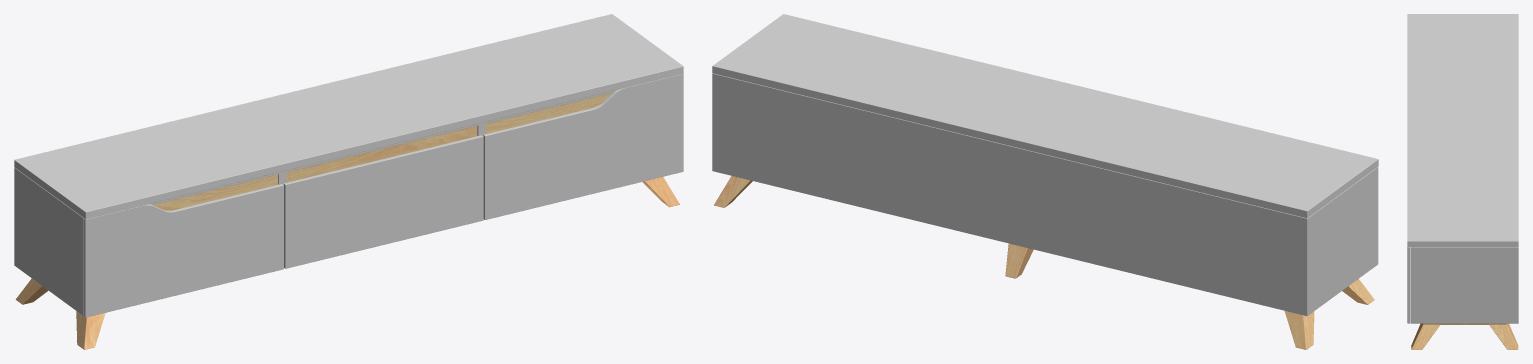
File: kitchenz_simona_tv_cabinet.glb
3 views of the same model, side by side, from view 1: azimuth 30°, elevation 25°; view 2: azimuth 150°, elevation 25°; view 3: azimuth 270°, elevation 25° (orthographic). The views are drawn at different scales.
Visible parts, largest first — view 1: TOP, PANEL3, PANEL1, PANEL2, CABINET, LEGBASE; view 2: CABINET, TOP, LEGBASE; view 3: TOP, CABINET, LEGBASE, PANEL3.
Part boxes in pixels (bbox=[...]): TOP: bbox=[14, 14, 683, 219]; PANEL3: bbox=[483, 73, 683, 219]; PANEL1: bbox=[83, 184, 283, 317]; PANEL2: bbox=[283, 135, 483, 268]; CABINET: bbox=[14, 90, 615, 315]; LEGBASE: bbox=[15, 177, 679, 349]; CABINET: bbox=[712, 73, 1376, 316]; TOP: bbox=[712, 14, 1378, 218]; LEGBASE: bbox=[714, 176, 1374, 349]; TOP: bbox=[1407, 14, 1518, 246]; CABINET: bbox=[1411, 247, 1518, 323]; LEGBASE: bbox=[1411, 323, 1518, 349]; PANEL3: bbox=[1407, 247, 1410, 323].
Size of the model in its own units: 9.97 by 2.23 by 2.07.
Materials: 3 (2 with a texture image).
